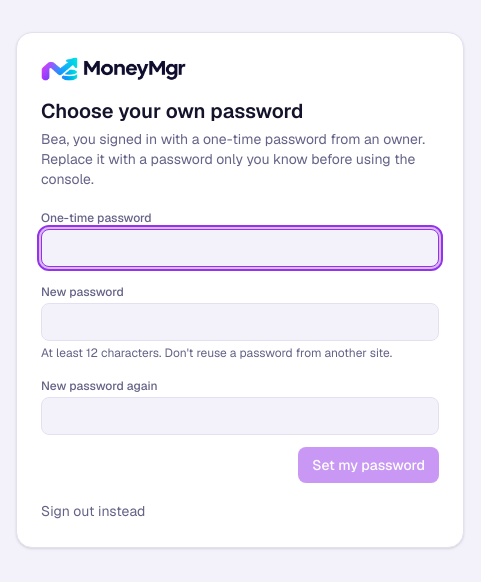
Test case: required password change › only submits when the new password is long enough and typed twice
Later steps or results of the test are not shown.
Type "Xy7_one-time-pw0" into the password field labelled "One-time password" at (240, 248), box [41,229,439,267]
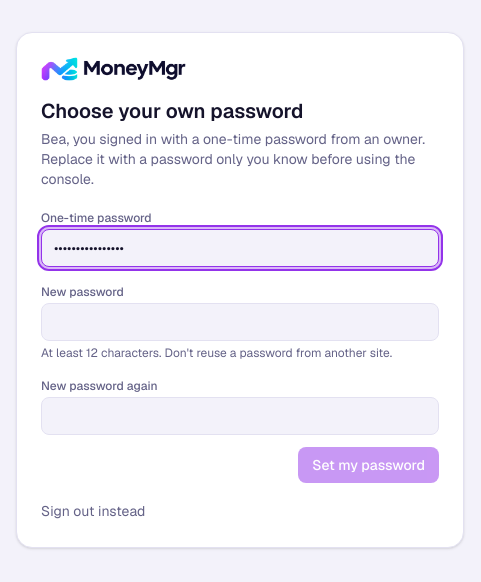
Type "a long new password" into the password field labelled "New password" at (240, 322), box [41,303,439,341]
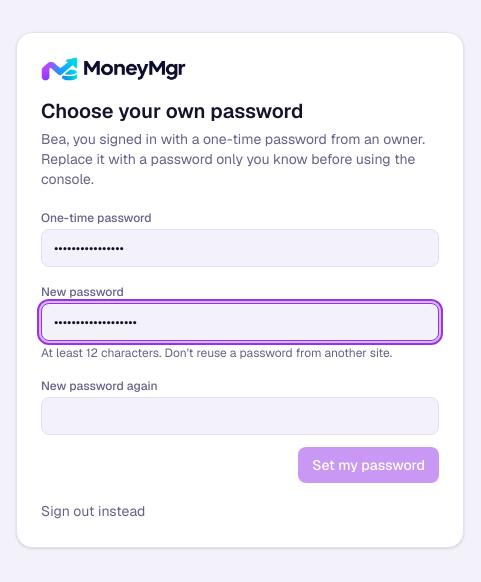
Type "a long new passwor" into the password field labelled "New password again" at (240, 416), box [41,397,439,435]
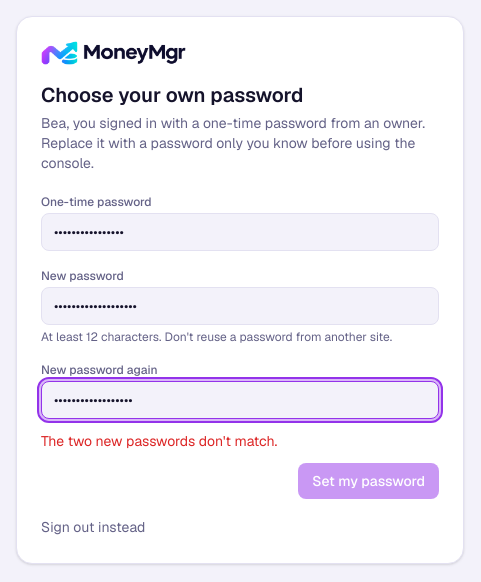
Check: the button "Set my password" is disabled, box [298,463,439,499]
Check: the text "The two new passwords don't match." is shown, box [41,432,277,450]
